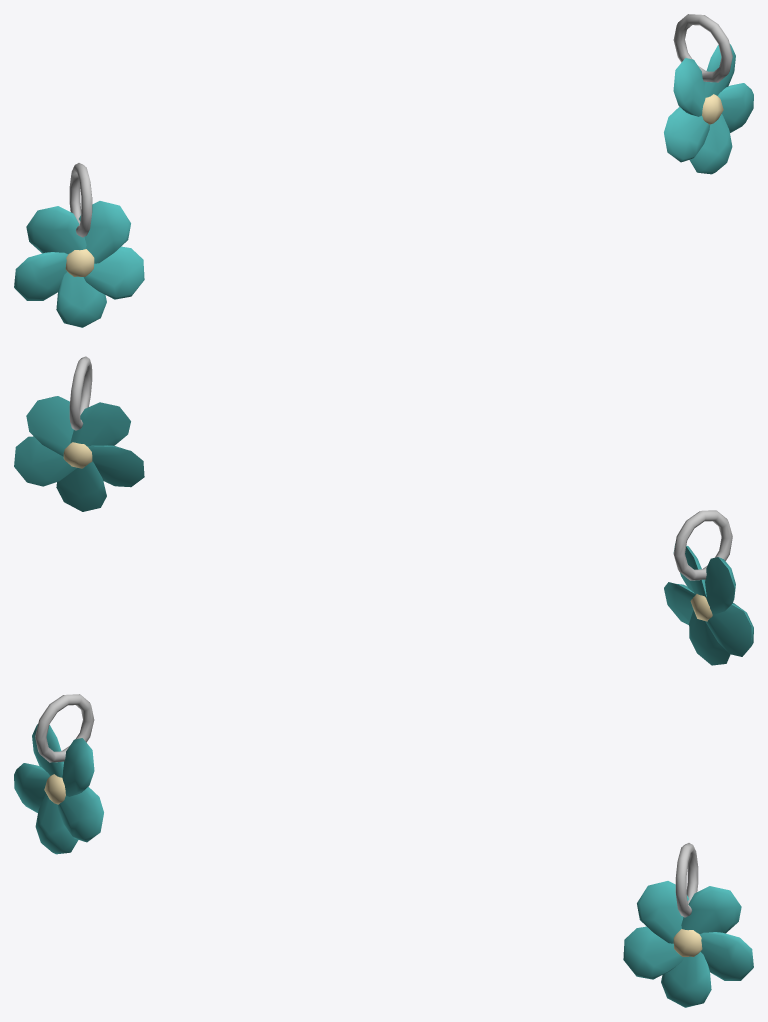
The model's file is Earring_16.fbx.
The picture shows the model from 3 angles, top to bottom: view 1: azimuth 30°, elevation 25°; view 2: azimuth 150°, elevation 25°; view 3: azimuth 330°, elevation 25°; orthographic projection.
Parts seen in each view (by area): view 1: Earring_16; view 2: Earring_16; view 3: Earring_16.
Part boxes in pixels (box(x1,y1,x2,y2)): Earring_16: box(14, 14, 753, 327); Earring_16: box(14, 356, 753, 665); Earring_16: box(14, 694, 753, 1007).
Bounding box in the file's own units: 59.66 × 12.15 × 4.99.
